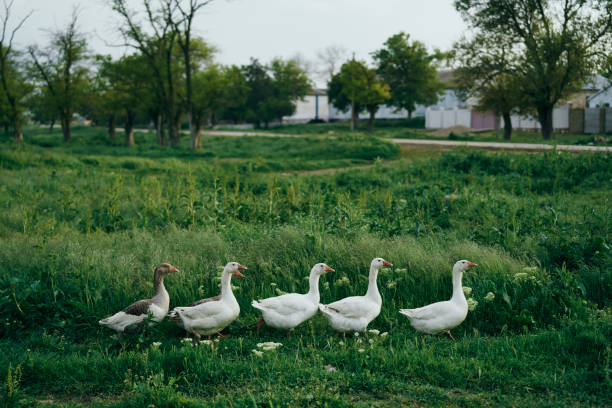goose: (95, 260, 186, 343), (173, 258, 251, 345), (400, 258, 480, 334), (252, 259, 337, 327), (320, 258, 395, 335)
